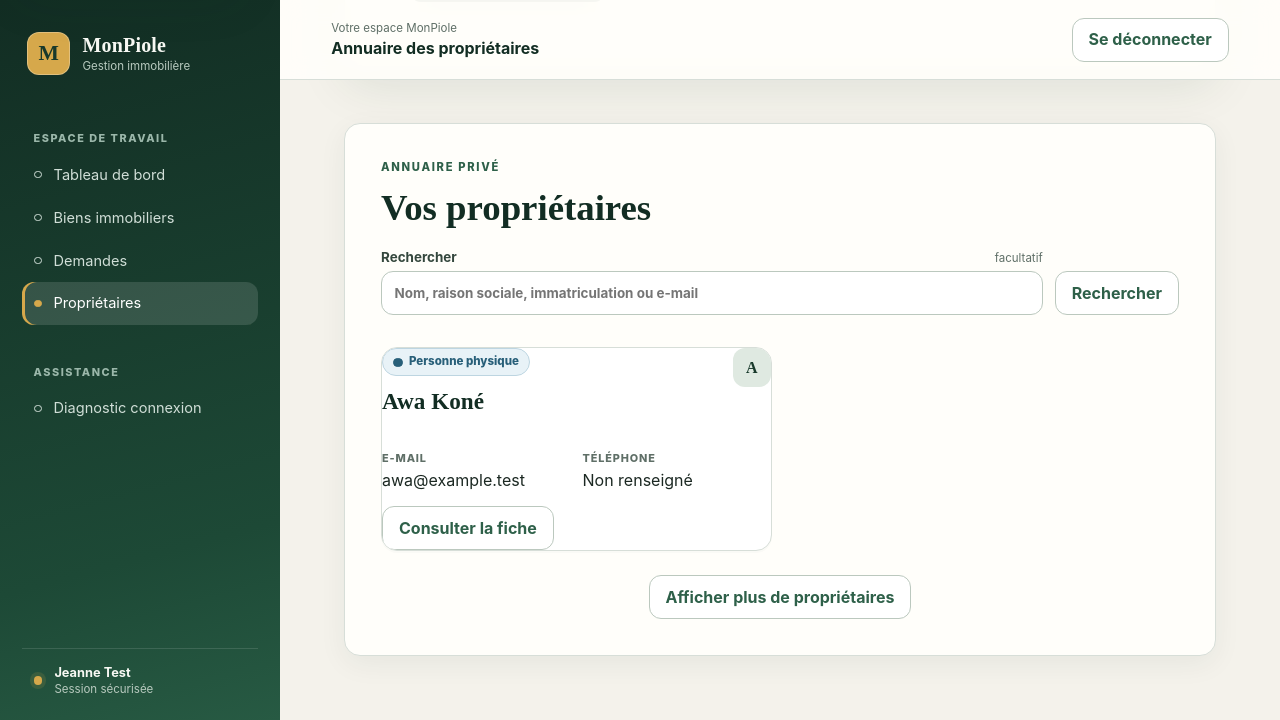
annuaire Web des propriétaires › affiche, recherche et pagine sans duplication avec les libellés français
The image size is (1280, 720).
(page scrolled)
Expected: the text "Personne physique" is shown, [382, 348, 530, 376]
Click the button "Afficher plus de propriétaires": x=780, y=597 [649, 575, 911, 619]
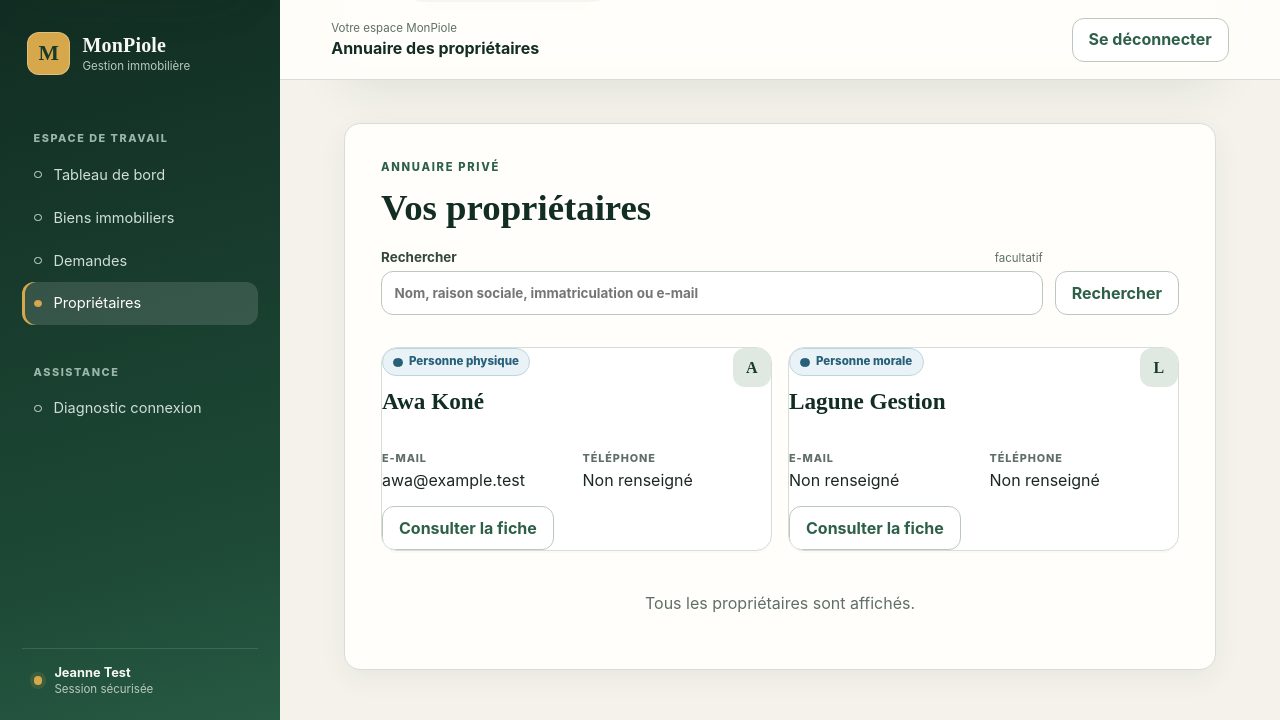
Expected: the number of headings "Awa Koné" is 1, [382, 388, 484, 414]
Expected: the heading "Lagune Gestion" is shown, [789, 388, 946, 415]
In the field labelled "Rechercher": x=712, y=293 [381, 271, 1043, 315], type "Introuvable"
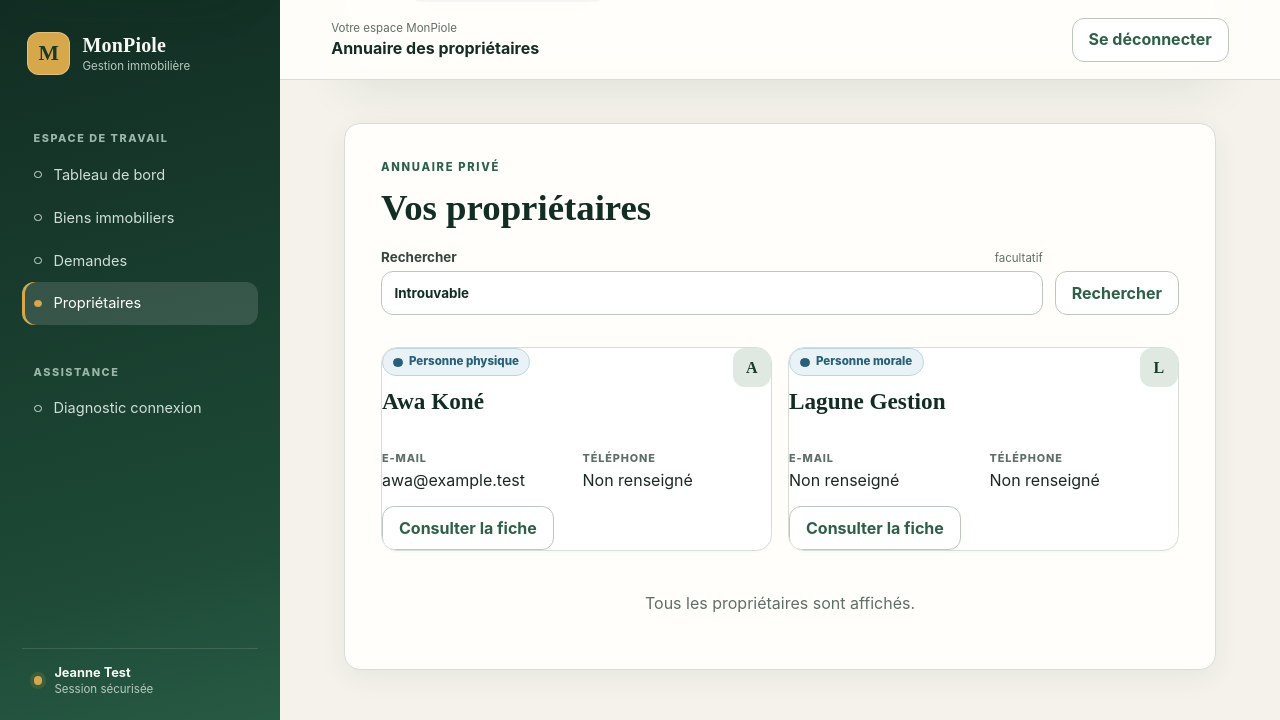
Click the button "Rechercher": x=1117, y=293 [1055, 271, 1179, 315]
(page scrolled)
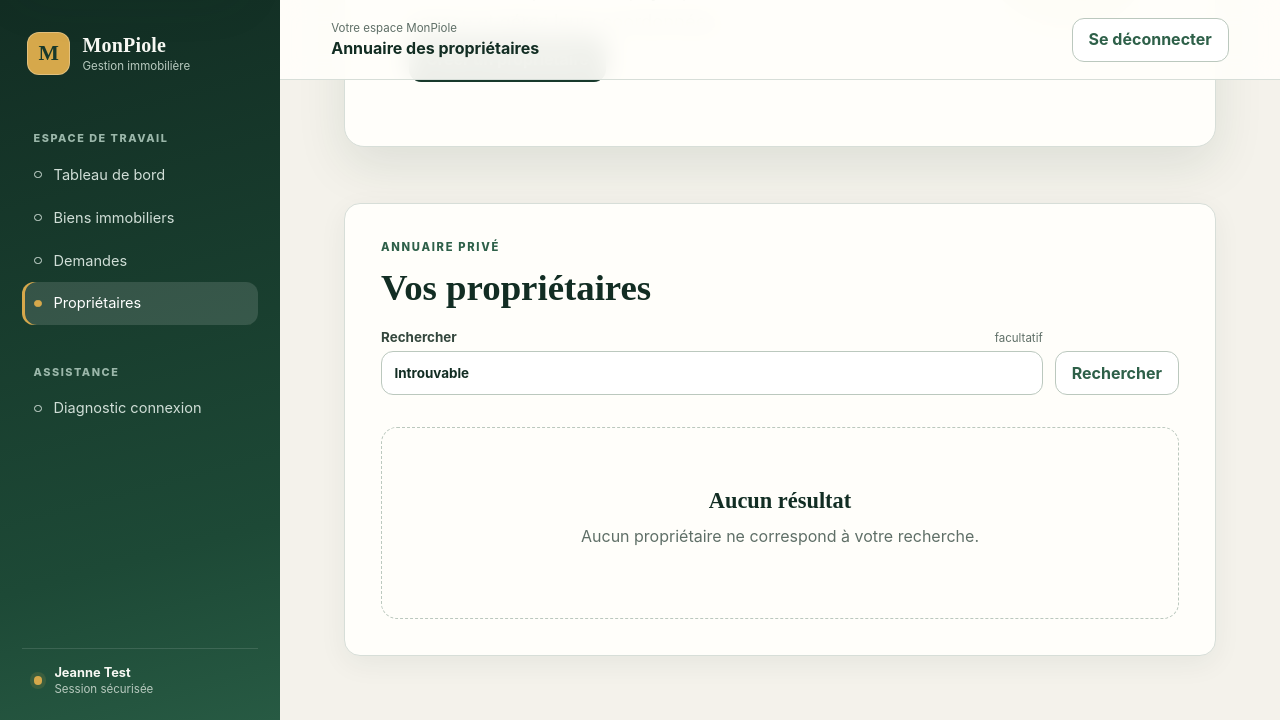
Expected: the heading "Aucun résultat" is shown, [709, 488, 851, 514]
